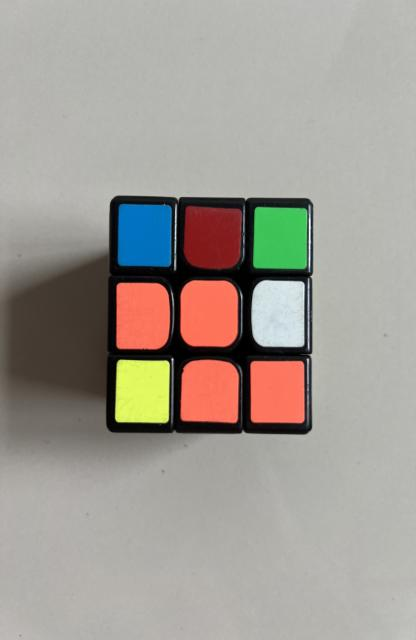Blue: (118, 204, 171, 266)
Green: (252, 206, 308, 269)
Orange: (180, 280, 238, 348), (180, 359, 239, 424), (116, 282, 170, 350), (250, 361, 304, 424)
Red: (183, 206, 242, 270)
White: (251, 280, 306, 348)
Yellow: (115, 359, 170, 424)
